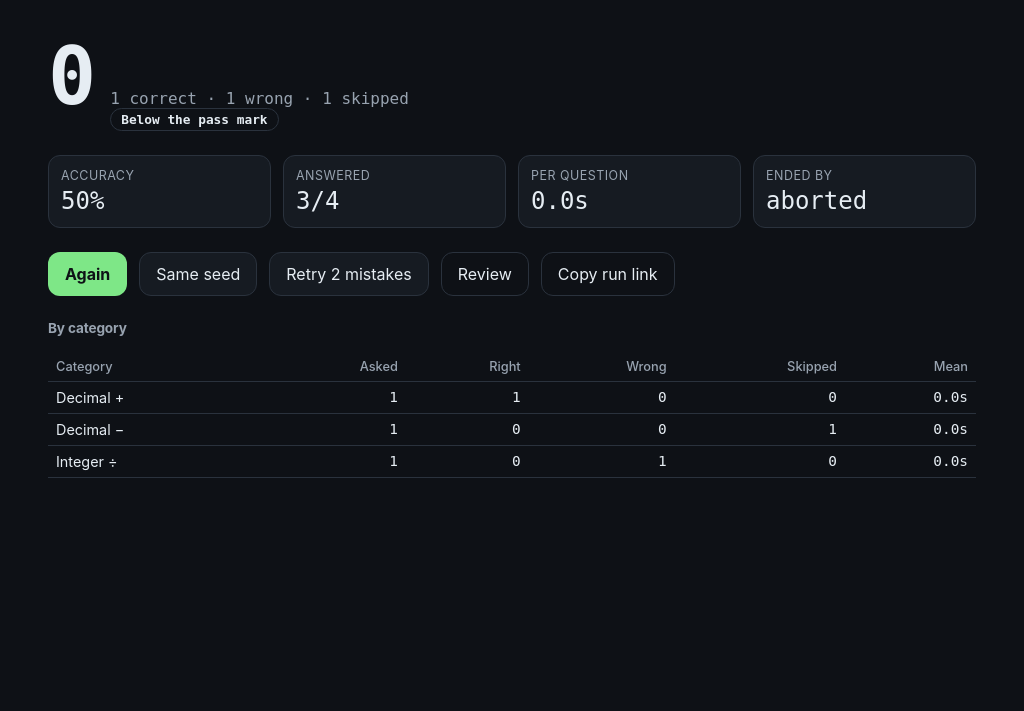
Test: the results screen › reads the summary off the run: score, counts, accuracy, band, and the review
This screenshot has width=1024, height=711.
Expected: the text with test id "score" reads "0", [48, 30, 96, 122]
Expected: the text "1 correct · 1 wrong · 1 skipped" is shown, [110, 88, 409, 108]
Click the button with test id "toggle-review". click: (485, 274)
box: [441, 252, 529, 296]
(page scrolled)
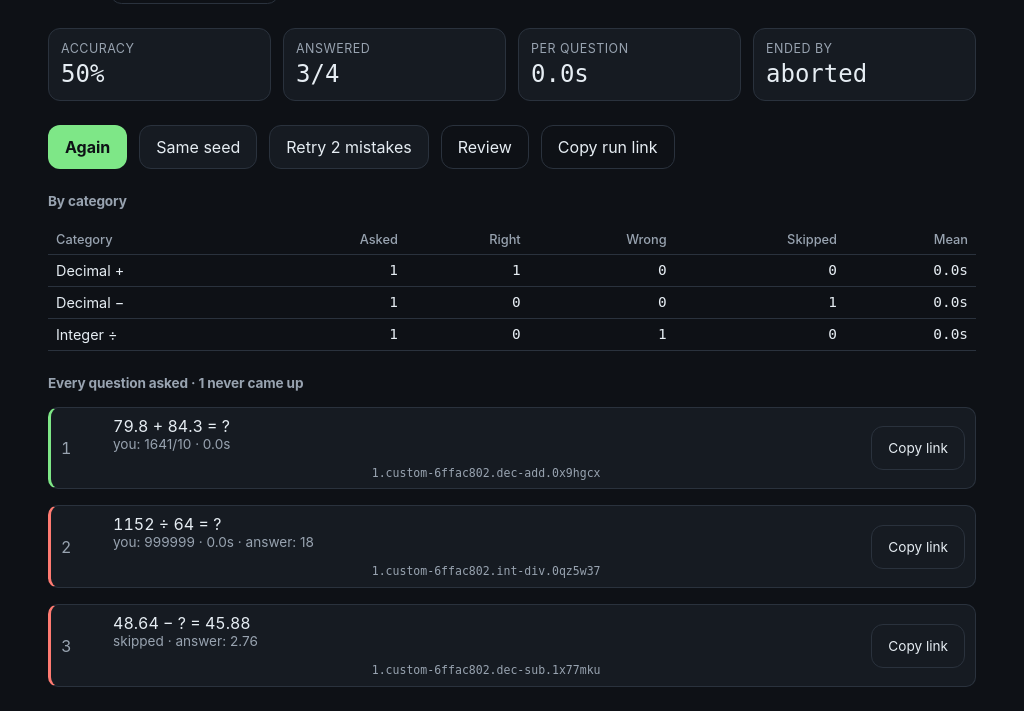
Result: the element with test id "review" shows "1 never came up" at [188, 374, 303, 390]
Result: the element with test id "review-row-1" shows "you: 999999" at [113, 534, 234, 550]
Result: the element with test id "review-row-1" shows "answer:" at [234, 534, 314, 550]
